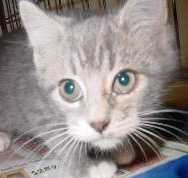Cat: (0, 0, 177, 163)
